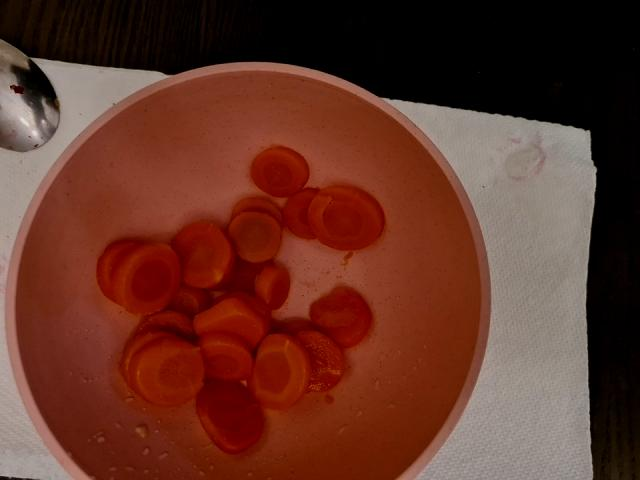kichen waste: (97, 147, 384, 454)
